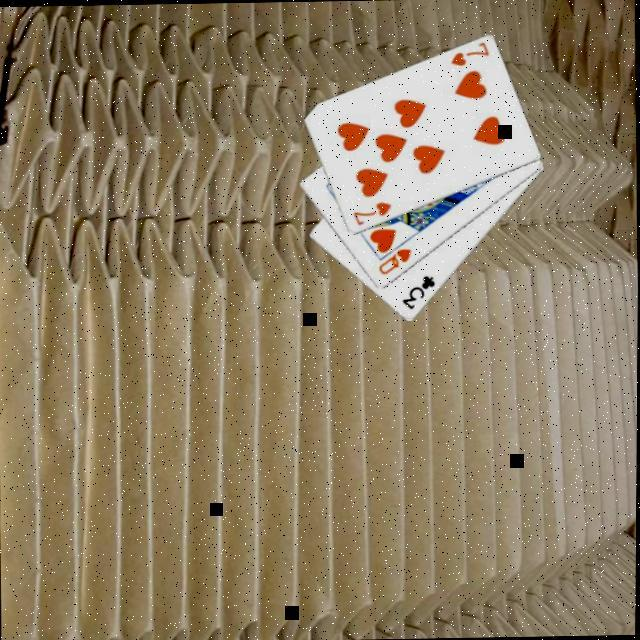3C: (400, 270, 441, 310)
7H: (448, 36, 494, 68), (351, 196, 396, 227)
QH: (376, 243, 417, 276)
